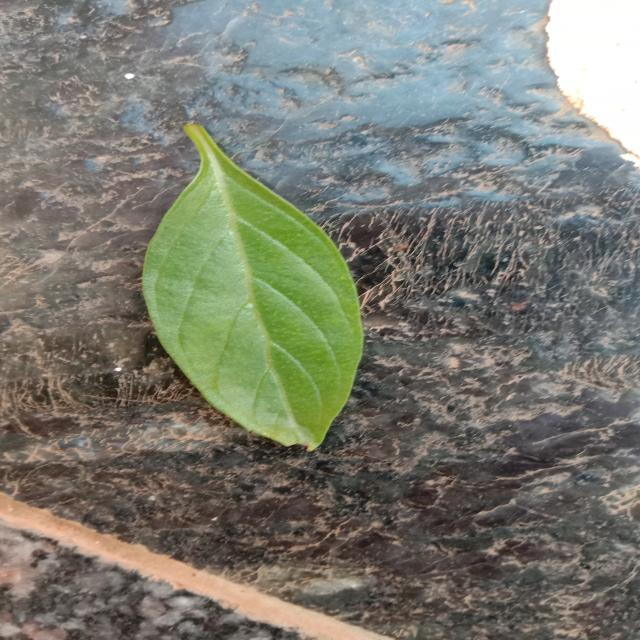kamakasturi: (144, 124, 363, 450)
